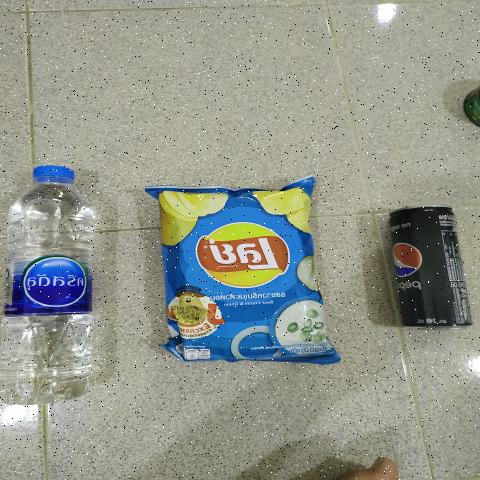crystal: (1, 164, 95, 406)
lay_blue: (172, 197, 308, 350)
pepsi_black: (382, 200, 458, 330)
